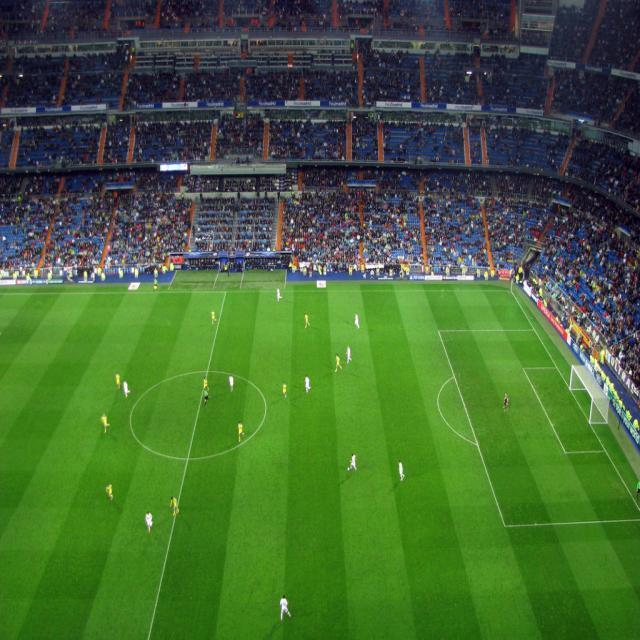ball: (348, 467, 351, 472)
